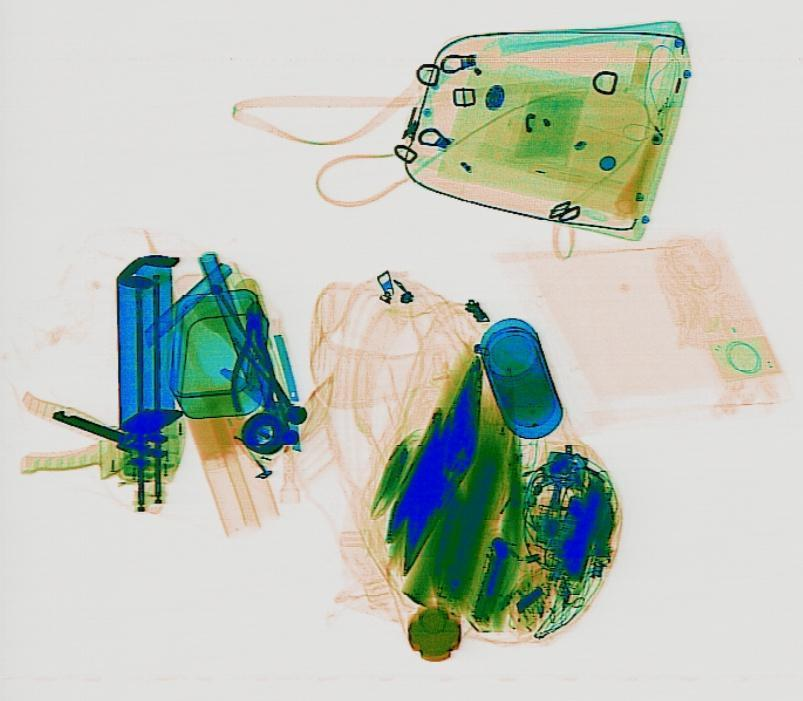Pliers: (230, 300, 274, 412)
